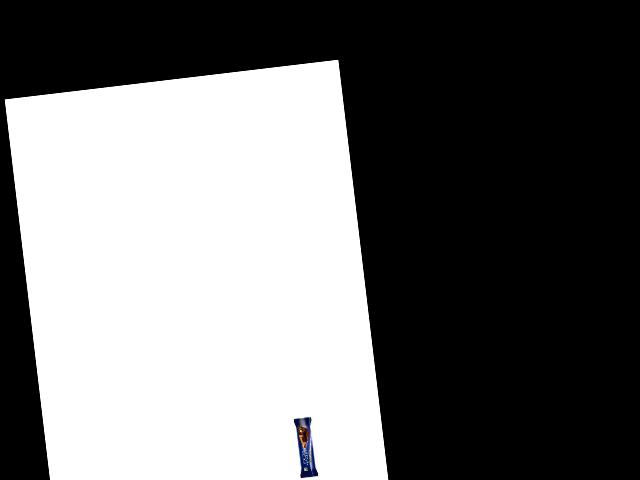chocolate: (286, 409, 319, 480)
